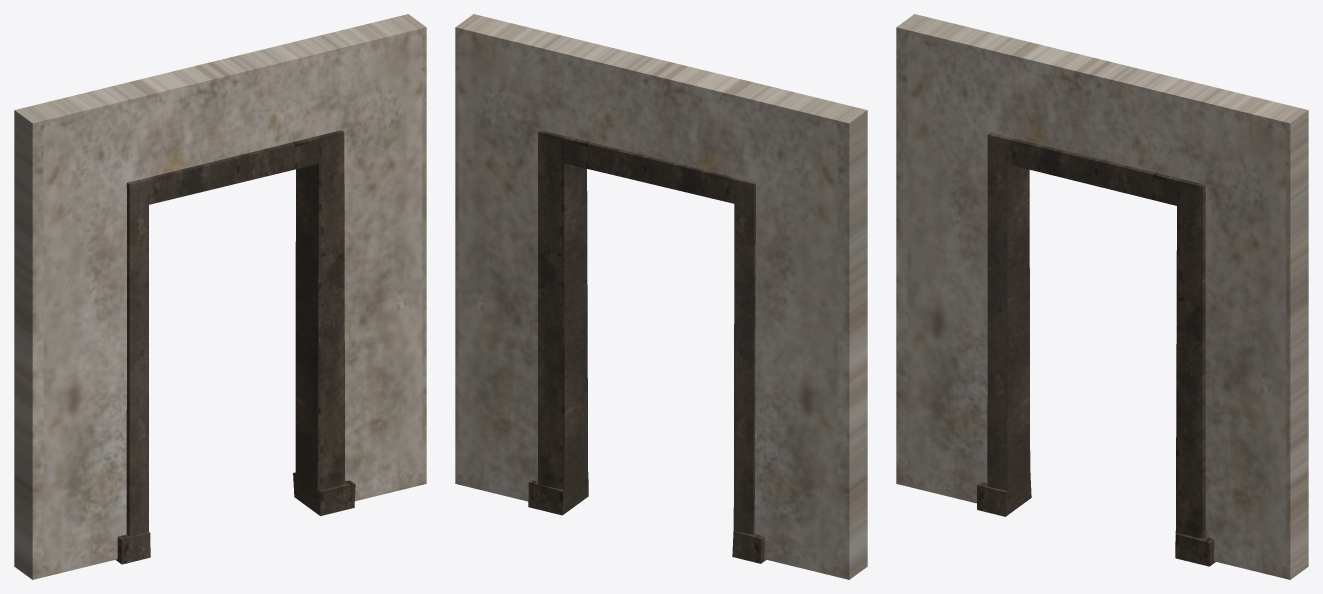
Rendered from wallWithGate1.fbx.
3 views of the same model, side by side, from view 1: azimuth 30°, elevation 25°; view 2: azimuth 150°, elevation 25°; view 3: azimuth 330°, elevation 25° (orthographic).
Visible parts, largest first — view 1: WallWithGate.001; view 2: WallWithGate.001; view 3: WallWithGate.001.
Boxes of the visible parts, x1,y1,x2,y2 form: WallWithGate.001: (14, 14, 426, 579); WallWithGate.001: (455, 14, 867, 579); WallWithGate.001: (896, 14, 1308, 579).
Size of the model in its own units: 250 by 278 by 29.55.
